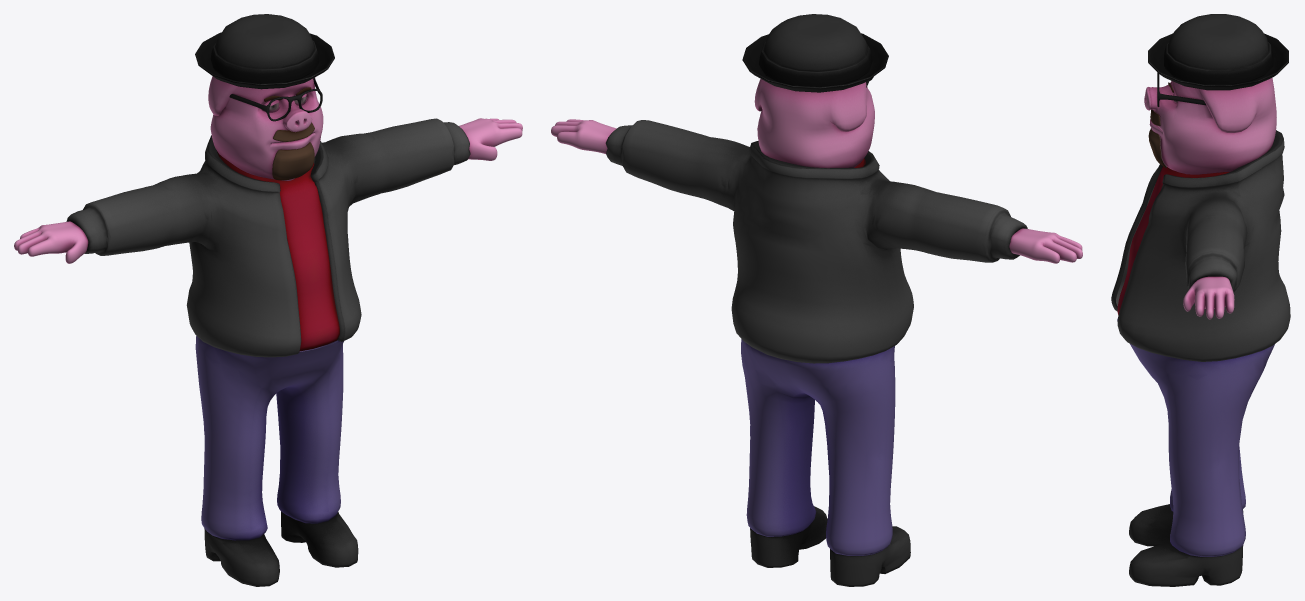
File: walter_pink.fbx
3 renders of one model, left to right at view 1: azimuth 30°, elevation 25°; view 2: azimuth 150°, elevation 25°; view 3: azimuth 270°, elevation 25°, orthographic. The views are drawn at different scales.
Parts seen in each view (by area): view 1: geo_walter_pork_body, geo_walter_pork_head, geo_hat, geo_glasses; view 2: geo_walter_pork_body, geo_walter_pork_head, geo_hat; view 3: geo_walter_pork_body, geo_walter_pork_head, geo_hat, geo_glasses.
Boxes of the visible parts, x1,y1,x2,y2 form: geo_walter_pork_body: (14, 118, 522, 586); geo_walter_pork_head: (208, 76, 323, 180); geo_hat: (195, 14, 334, 89); geo_glasses: (229, 77, 322, 121); geo_walter_pork_body: (551, 119, 1082, 586); geo_walter_pork_head: (754, 79, 874, 168); geo_hat: (742, 14, 888, 92); geo_walter_pork_body: (1111, 130, 1290, 586); geo_walter_pork_head: (1144, 78, 1276, 174); geo_hat: (1148, 14, 1288, 90); geo_glasses: (1157, 72, 1205, 106).
Size of the model in its own units: 600 by 591 by 181.
Materials: 1 (1 with a texture image).
